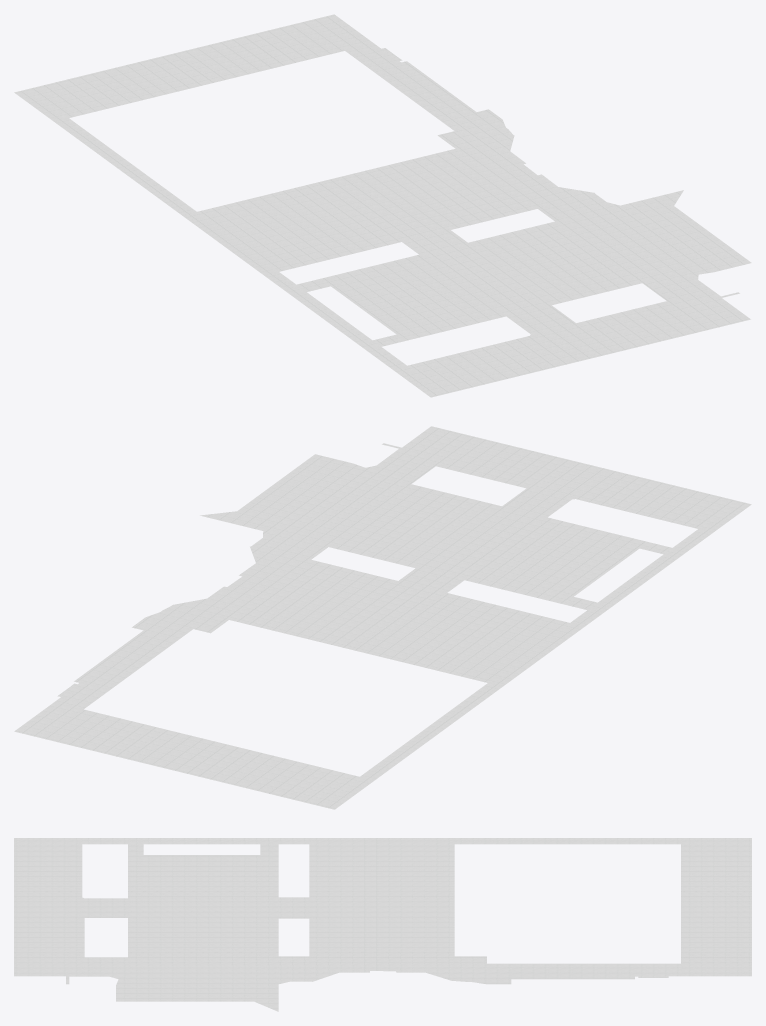
File: ceiling.fbx
3 renders of one model, top to bottom at view 1: azimuth 30°, elevation 25°; view 2: azimuth 150°, elevation 25°; view 3: azimuth 270°, elevation 25°, orthographic. The views are drawn at different scales.
Parts seen in each view (by area): view 1: 2ndFloor; view 2: 2ndFloor; view 3: 2ndFloor.
Part boxes in pixels (x1,y1,x2,y2): 2ndFloor: [14, 14, 751, 397]; 2ndFloor: [14, 426, 751, 809]; 2ndFloor: [14, 838, 751, 1011].
Size of the model in its own units: 12886 by 0.00652 by 23102.
1 material, 1 textured.
